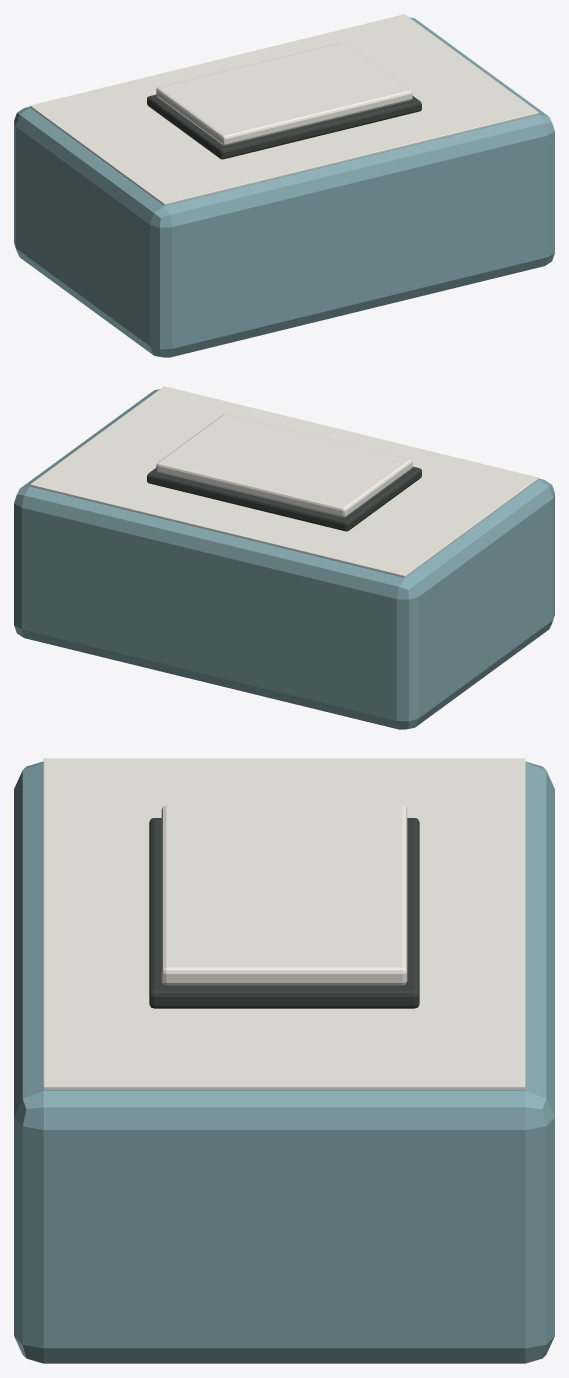
Rendered from wet-wipes-pack-v1.glb.
The picture shows the model from 3 angles, top to bottom: view 1: azimuth 30°, elevation 25°; view 2: azimuth 150°, elevation 25°; view 3: azimuth 270°, elevation 25°; orthographic projection. The views are drawn at different scales.
Visible parts, largest first — view 1: soft-body, top-seal, lid, lid-frame; view 2: soft-body, top-seal, lid, lid-frame; view 3: soft-body, top-seal, lid, lid-frame.
Part boxes in pixels (x1,y1,x2,y2): soft-body: (14, 17, 554, 357); top-seal: (30, 14, 538, 205); lid: (156, 42, 412, 145); lid-frame: (147, 94, 421, 159); soft-body: (14, 389, 554, 729); top-seal: (30, 386, 538, 577); lid: (156, 414, 412, 517); lid-frame: (147, 466, 421, 531); soft-body: (14, 761, 554, 1363); top-seal: (43, 758, 525, 1090); lid: (161, 805, 407, 985); lid-frame: (149, 818, 419, 1008).
Size of the model in its own units: 0.17 by 0.07 by 0.11.
